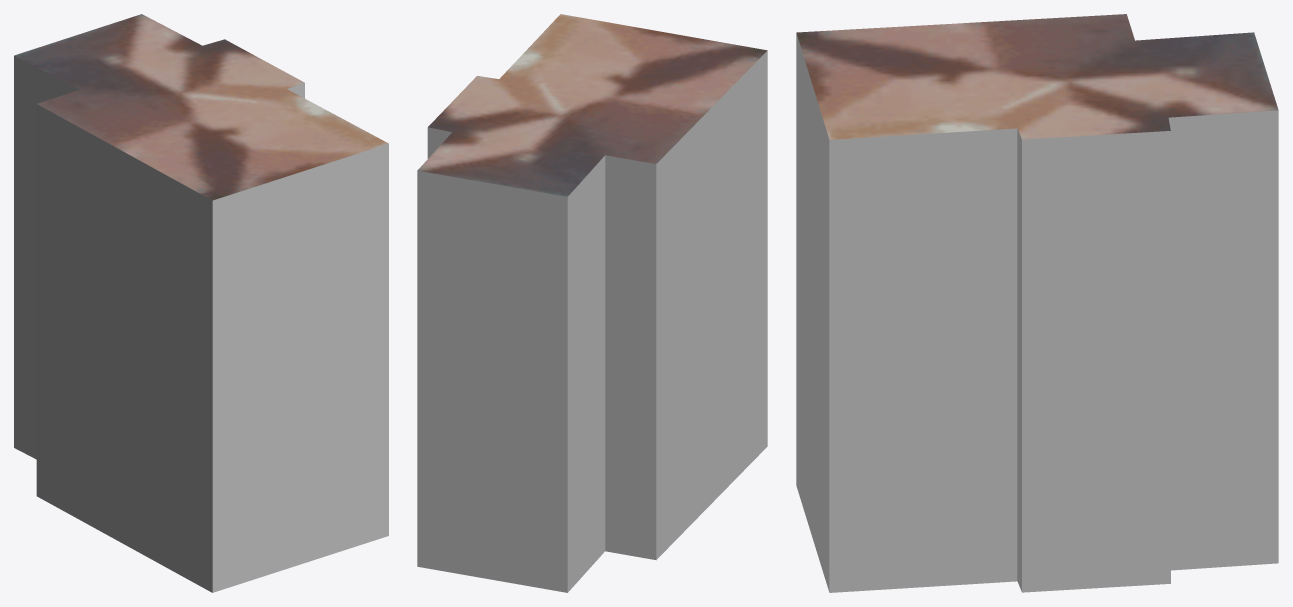
The model's file is DEBW_0010007Tvje.gltf.
3 renders of one model, left to right at view 1: azimuth 30°, elevation 25°; view 2: azimuth 150°, elevation 25°; view 3: azimuth 270°, elevation 25°, orthographic. The views are drawn at different scales.
Visible parts, largest first — view 1: Z_UP; view 2: Z_UP; view 3: Z_UP.
Part boxes in pixels (x1,y1,x2,y2): Z_UP: (14,14,388,592); Z_UP: (417,14,767,592); Z_UP: (796,14,1278,592).
Size of the model in its own units: 10.34 by 17.34 by 16.73.
2 materials, 1 textured.
